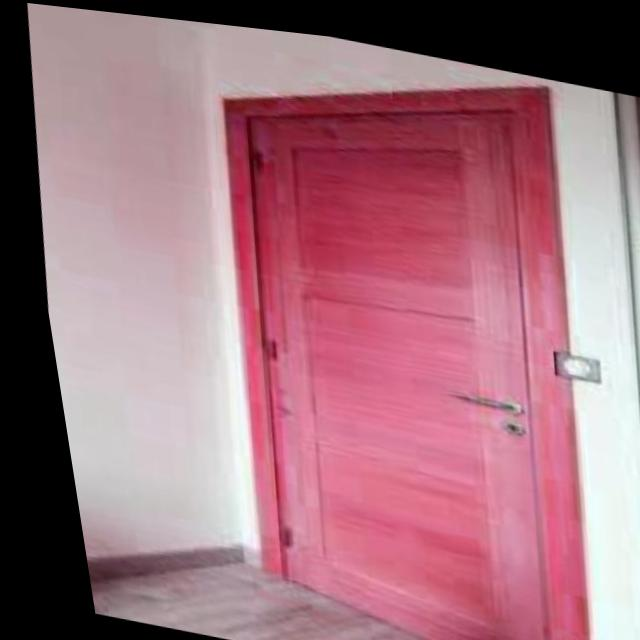door_handle: (425, 369, 517, 414)
